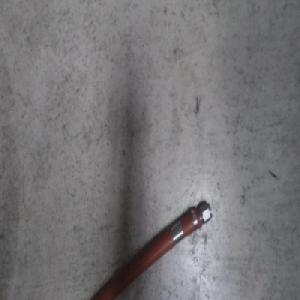Hose: (66, 197, 213, 300)
